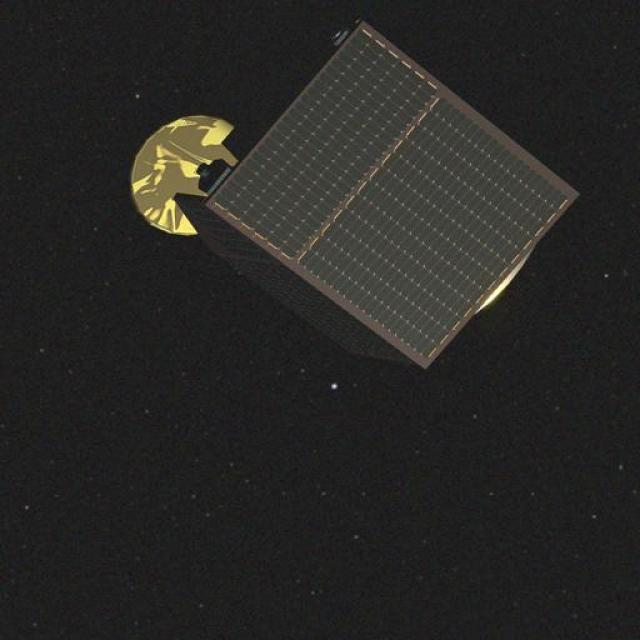cheops: (132, 26, 570, 377)
